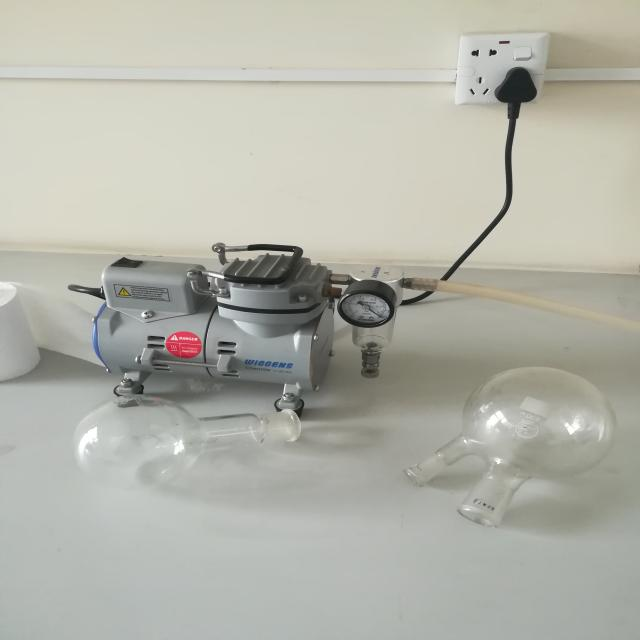Round_Bottom_Flask_Borosilicate_Glass_1_Neck: (61, 364, 322, 498)
Round_Bottom_Flask_Borosilicate_Glass_2_Neck: (377, 360, 638, 555)
